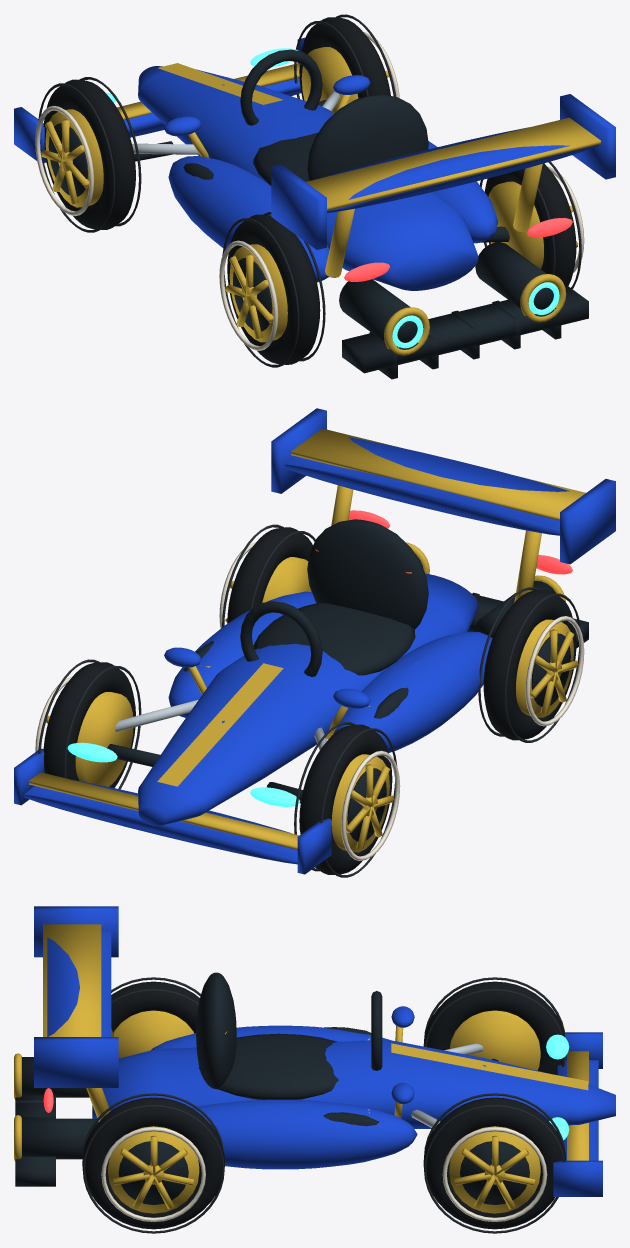
The model's file is kart_formula_blue.glb.
3 renders of one model, top to bottom at view 1: azimuth 30°, elevation 25°; view 2: azimuth 150°, elevation 25°; view 3: azimuth 270°, elevation 25°, orthographic. The views are drawn at different scales.
Parts seen in each view (by area): view 1: body, wheel-front-left, wheel-back-left, wheel-back-right, wheel-front-right; view 2: body, wheel-back-left, wheel-front-left, wheel-front-right, wheel-back-right; view 3: body, wheel-back-right, wheel-front-right, wheel-front-left, wheel-back-left.
Part boxes in pixels (left/top/right/bottom): body: left=14, top=37, right=615, bottom=379; wheel-front-left: left=35, top=77, right=141, bottom=232; wheel-back-left: left=219, top=212, right=325, bottom=367; wheel-back-right: left=480, top=161, right=584, bottom=288; wheel-front-right: left=294, top=14, right=399, bottom=113; body: left=14, top=408, right=615, bottom=874; wheel-back-left: left=478, top=587, right=584, bottom=742; wheel-front-left: left=294, top=722, right=400, bottom=877; wheel-front-right: left=35, top=659, right=141, bottom=789; wheel-back-right: left=219, top=524, right=315, bottom=628; body: left=14, top=906, right=615, bottom=1196; wheel-back-right: left=82, top=1093, right=224, bottom=1233; wheel-front-right: left=423, top=1093, right=565, bottom=1233; wheel-front-left: left=423, top=977, right=565, bottom=1075; wheel-back-left: left=111, top=977, right=200, bottom=1058.
Bounding box in the file's own units: 2.28 × 1.49 × 4.13.
